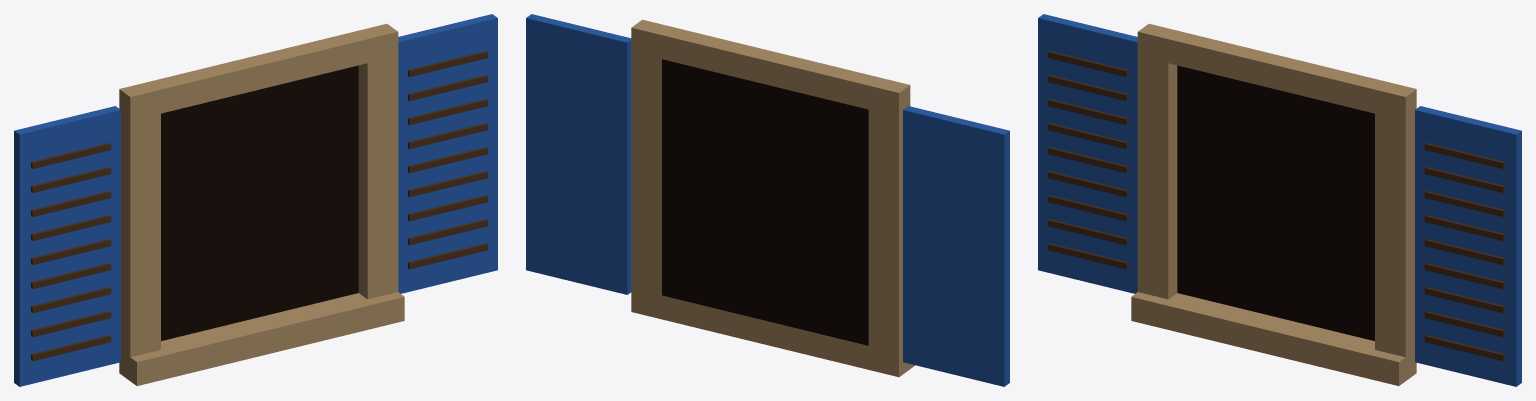
The model's file is dc_shutter_window.glb.
3 renders of one model, left to right at view 1: azimuth 30°, elevation 25°; view 2: azimuth 150°, elevation 25°; view 3: azimuth 330°, elevation 25°, orthographic.
Visible parts, largest first — view 1: dc_shutter_window; view 2: dc_shutter_window; view 3: dc_shutter_window.
Boxes of the visible parts, x1,y1,x2,y2 form: dc_shutter_window: (14, 14, 497, 386); dc_shutter_window: (526, 14, 1009, 386); dc_shutter_window: (1038, 14, 1521, 386).
Bounding box in the file's own units: 2.5 × 1.42 × 0.16.
